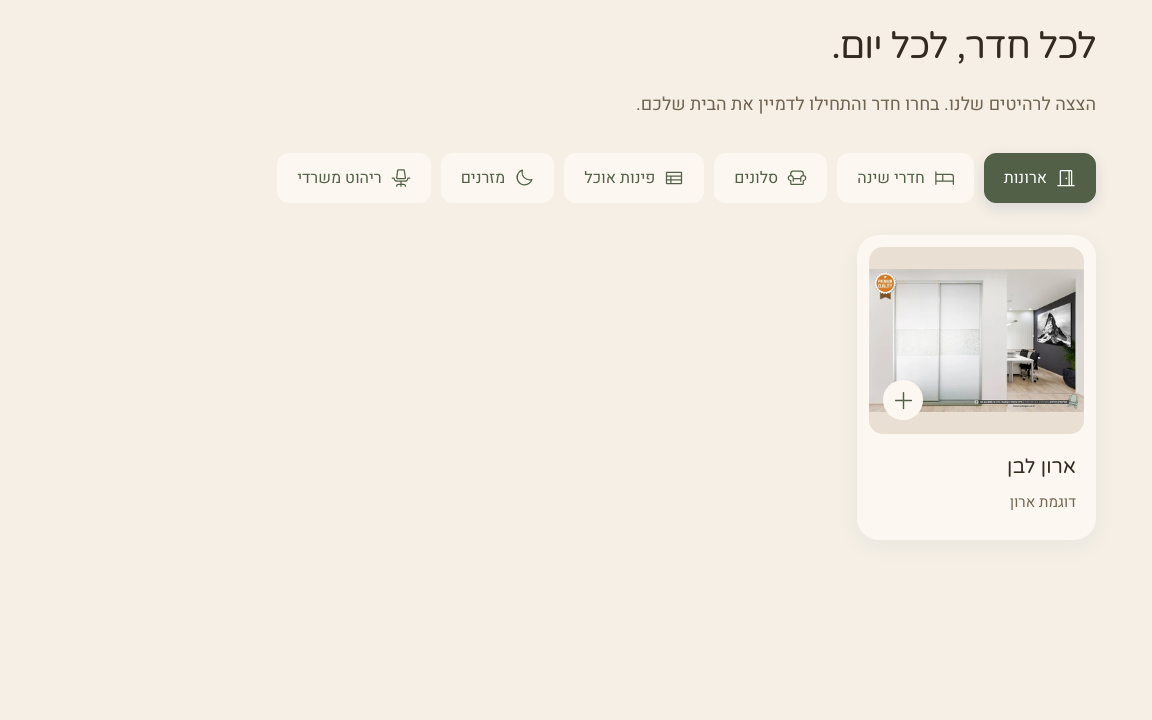
Test case: furniture browsing › keeps content clicks open and dismisses the dialog on an outside click
Click the button named "הגדלת תמונה: ארון לבן" at (976, 341), box [869,247,1084,434]
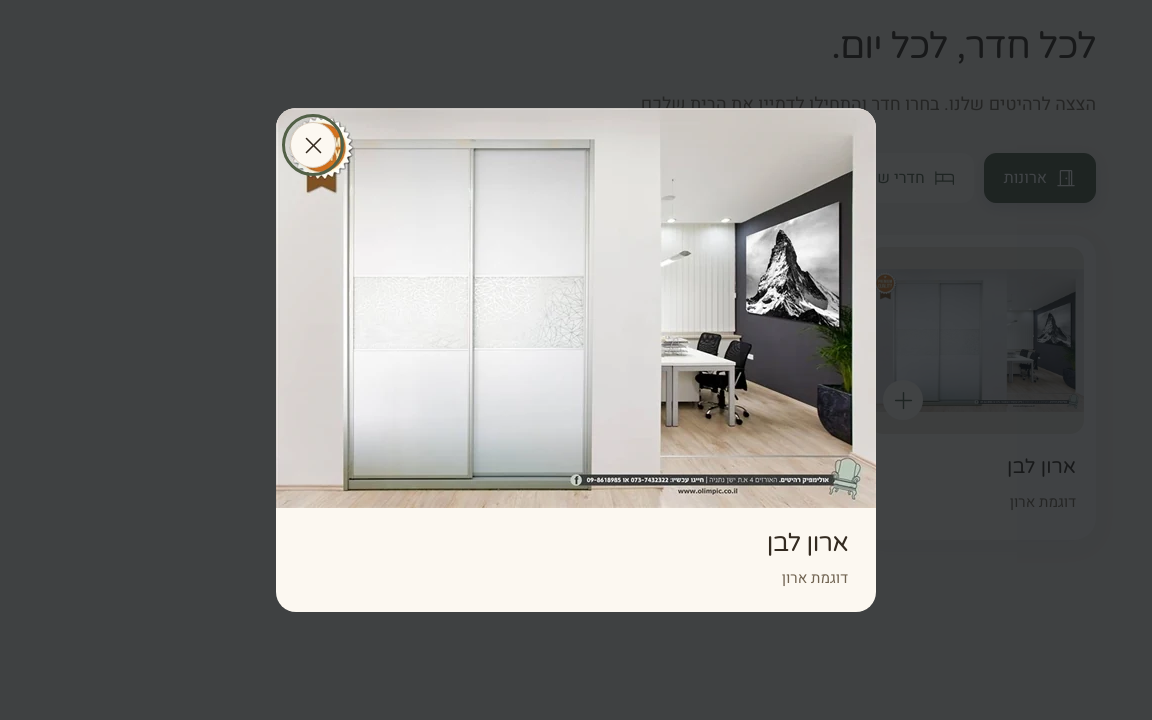
Click the picture at (576, 308), box [276,108,876,508]
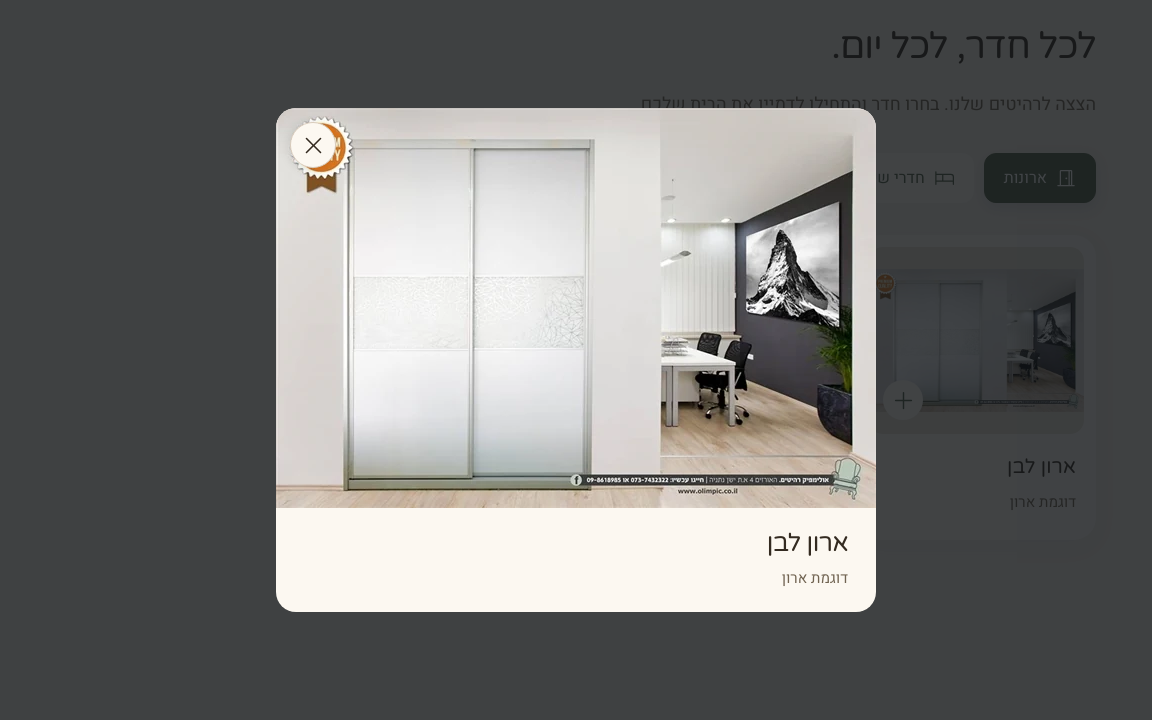
Now the dialog is shown
Click the dialog at (576, 360), box [276,108,876,612]
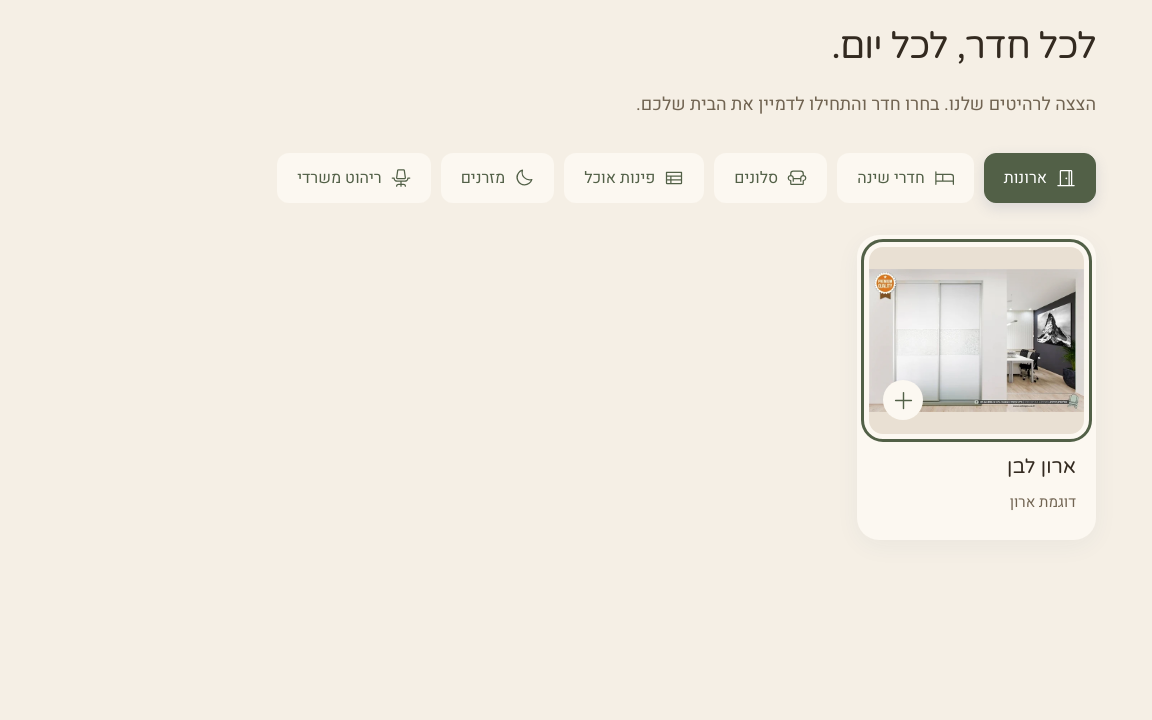
Now the dialog is gone
